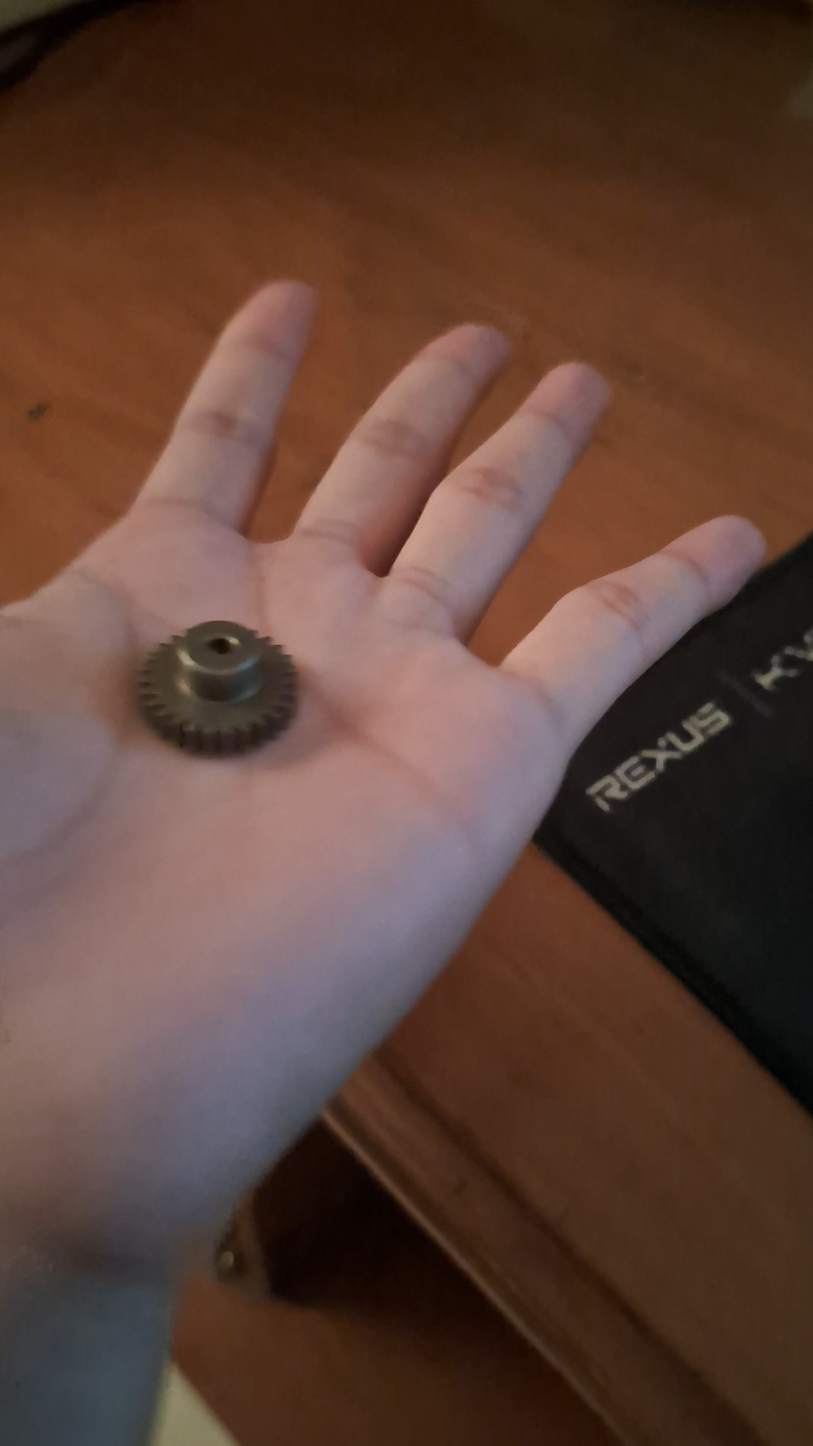spur gear: (138, 621, 297, 755)
